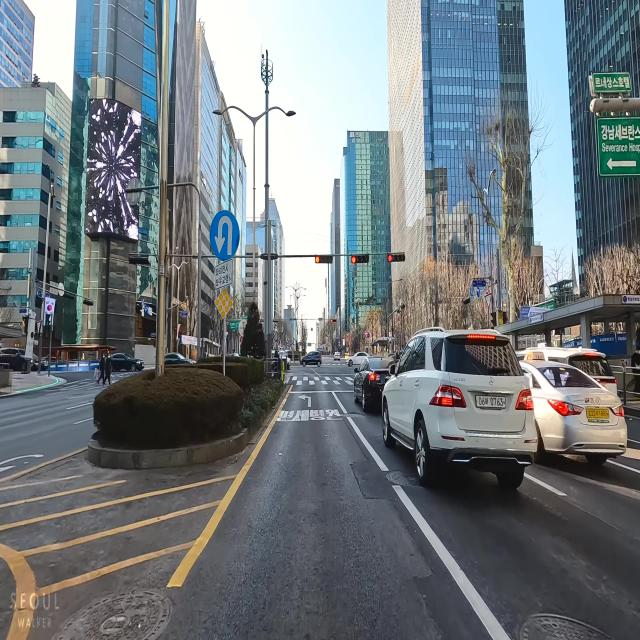Red Light: (388, 253, 393, 262), (315, 256, 320, 263), (352, 255, 356, 263), (331, 319, 333, 322)
